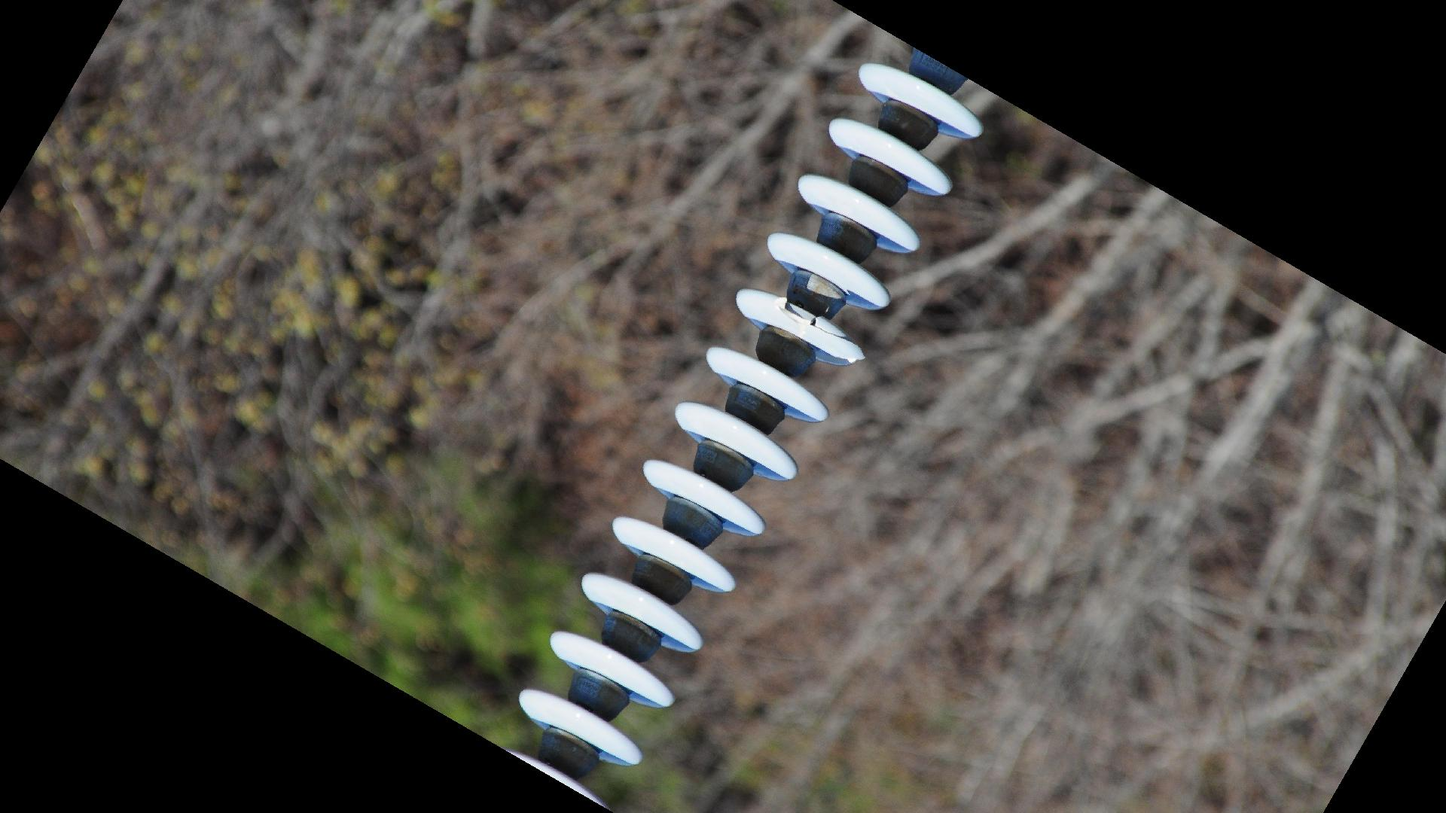insulator: (493, 56, 990, 813)
insulator_breakage: (769, 290, 870, 370)
